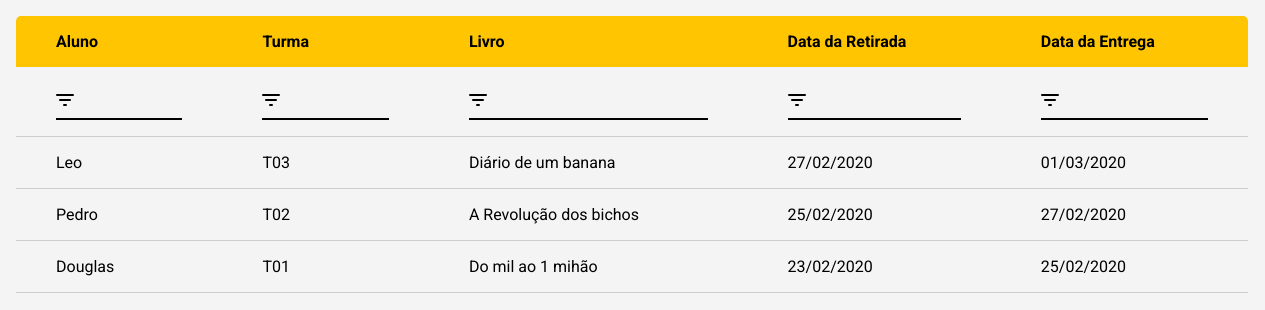
it: <HistoryLoans /> › should order the lines for book names to be in alphabetic order when the button is clicked and to be in reverse order if it clicked again
Expected: the row with test id "loanLine" shows "Diário de um banana", [469,153,616,172]
Click the element with test id "sortBook" at (588, 102), box [469,83,708,120]
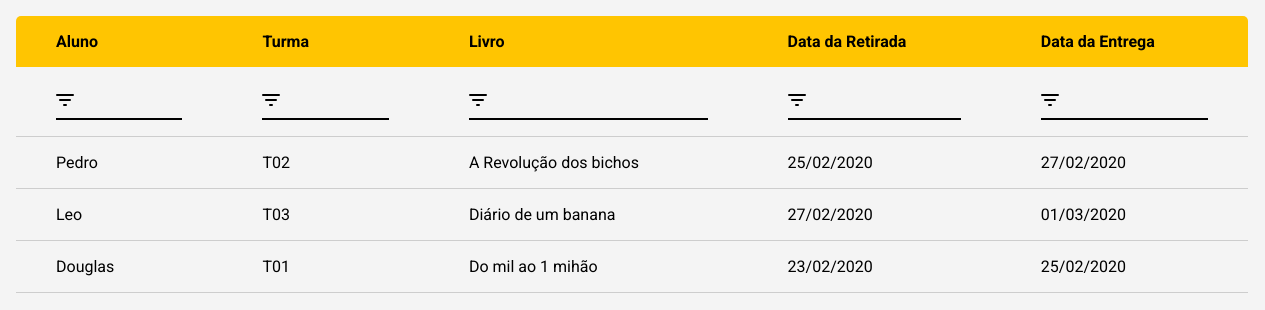
Result: the row with test id "loanLine" shows "A Revolução dos bichos" at [469,153,639,172]
Click the element with test id "sortBook" at (588, 102), box [469,83,708,120]
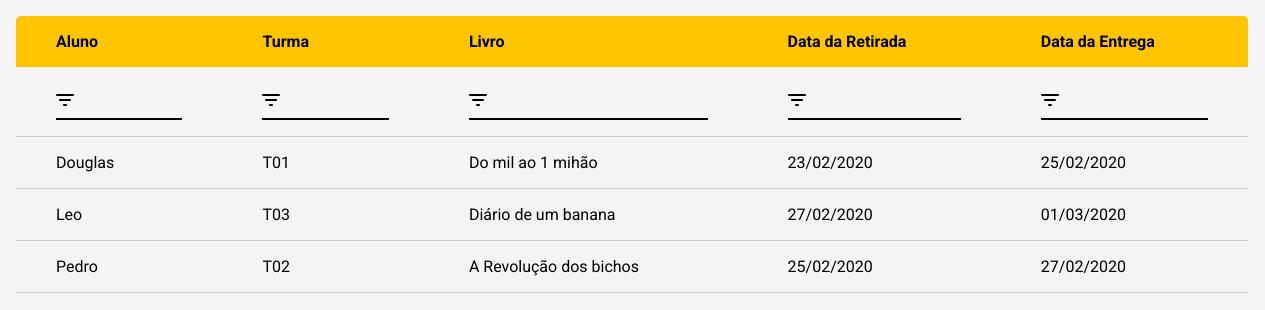
Result: the row with test id "loanLine" shows "Do mil ao 1 mihão" at [469,153,598,172]
